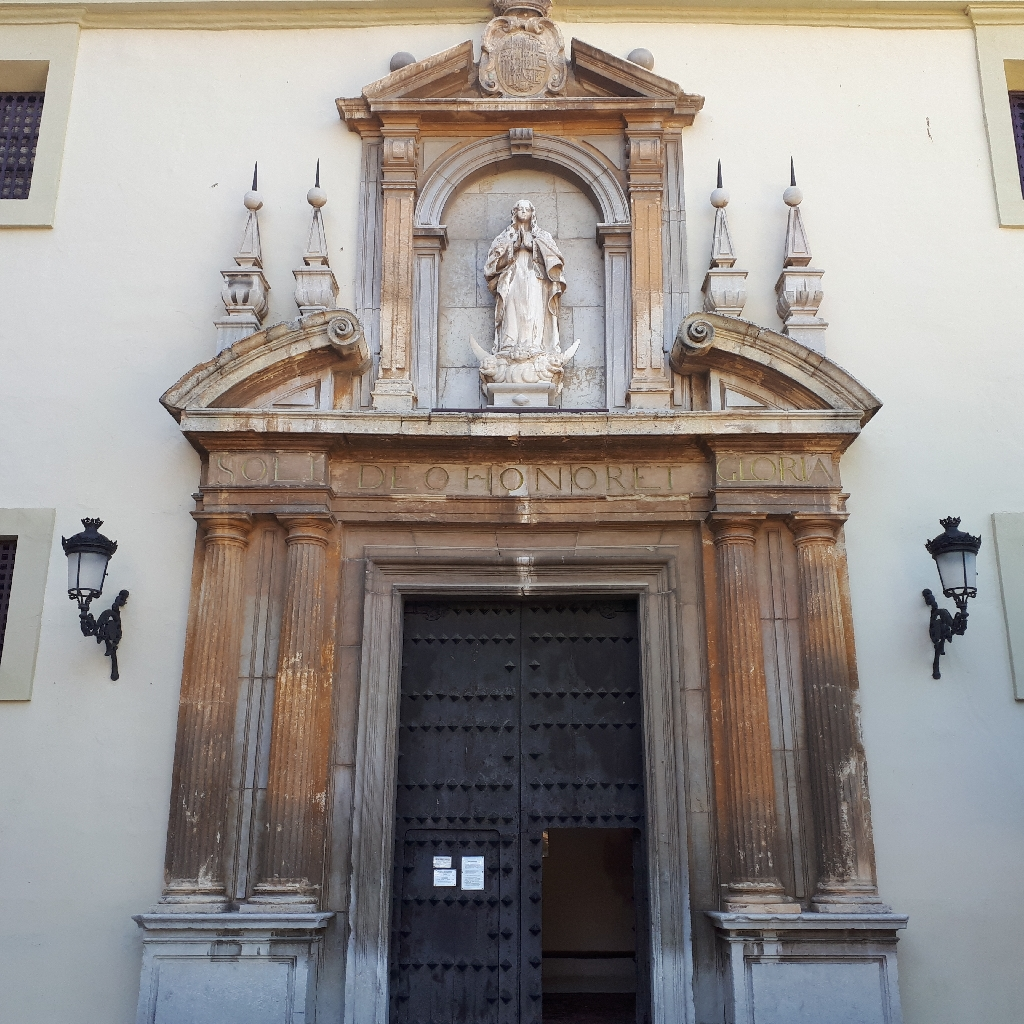arco-medio-punto: (429, 149, 617, 269)
fronton-partido: (161, 310, 884, 441), (359, 32, 694, 116)
vano-adintelado: (335, 535, 695, 1024)
